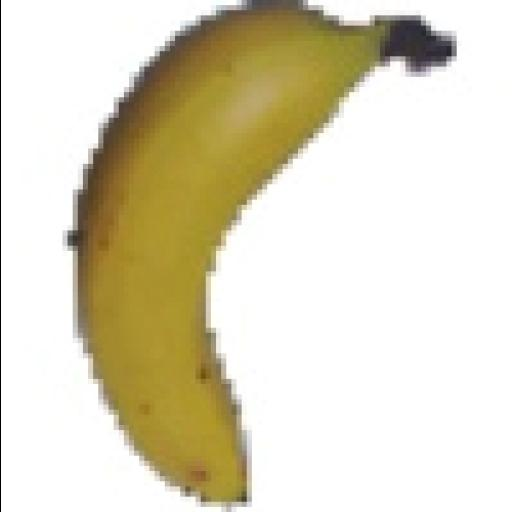banana: (77, 5, 450, 500)
